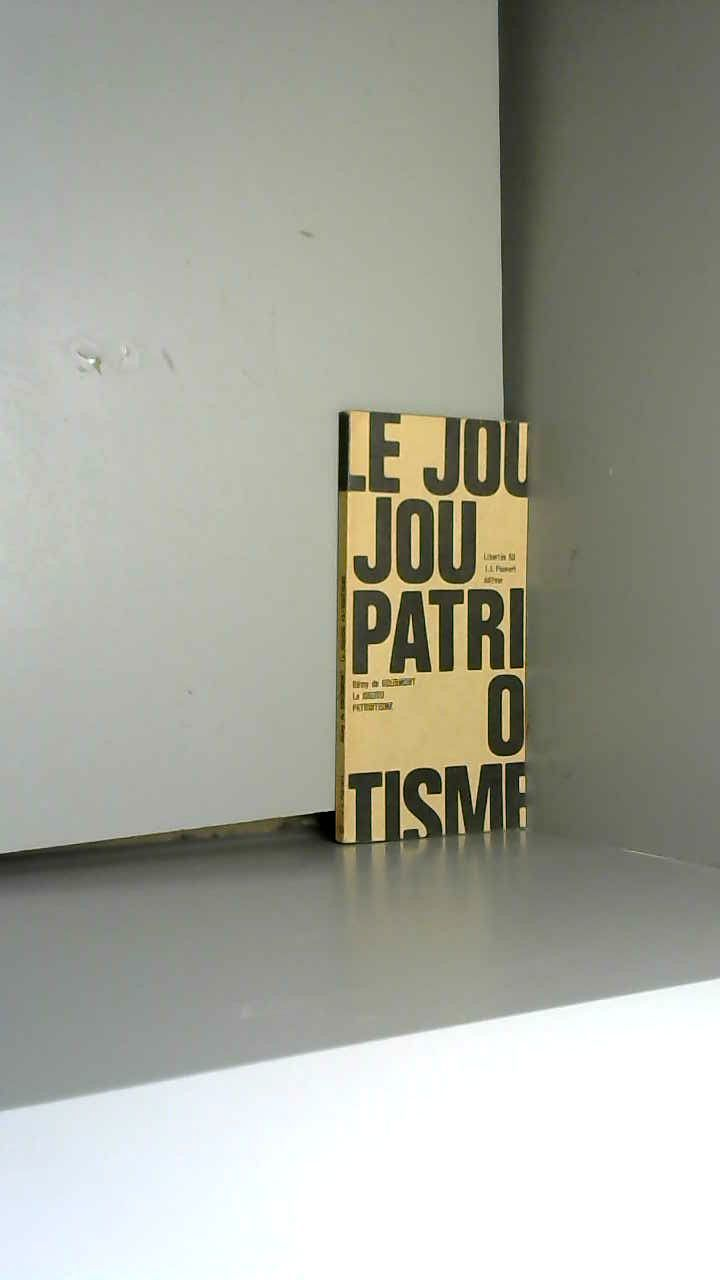book: (312, 382, 568, 883)
